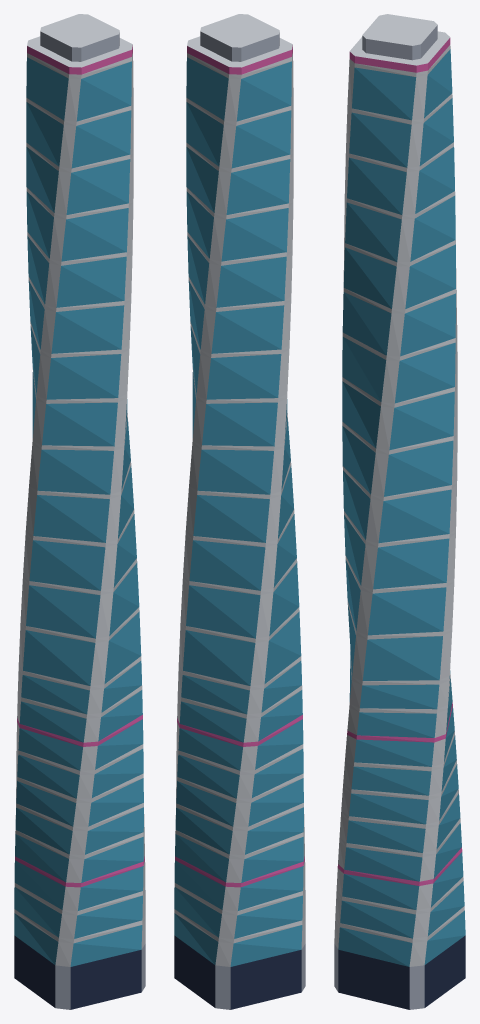
File: city-tower-3.glb
3 views of the same model, side by side, from view 1: azimuth 30°, elevation 25°; view 2: azimuth 210°, elevation 25°; view 3: azimuth 330°, elevation 25° (orthographic).
Visible parts, largest first — view 1: CityTower3; view 2: CityTower3; view 3: CityTower3.
Boxes of the visible parts, <box> form: CityTower3: <box>14,14,145,1009</box>; CityTower3: <box>174,14,305,1009</box>; CityTower3: <box>334,14,465,1009</box>.
Bounding box in the file's own units: 15.64 × 133 × 15.64.
